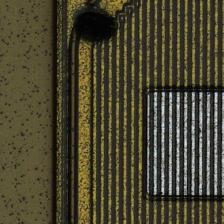PARTICLE: (70, 1, 122, 52)
